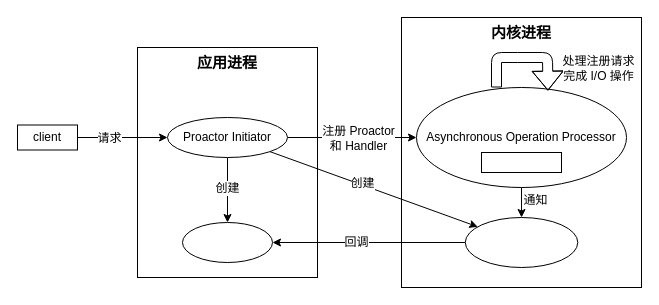
Image size: 659x305. Some labels were removed from this diagram. Each missing label, with the centre of its shape:
Handler: the point at 227,242
Proactor: the point at 521,242
异步 I/O 操作: the point at 521,162
